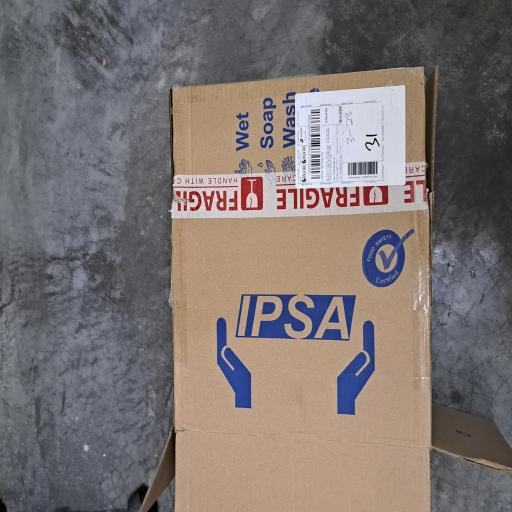cardboard: (0, 188, 349, 512)
